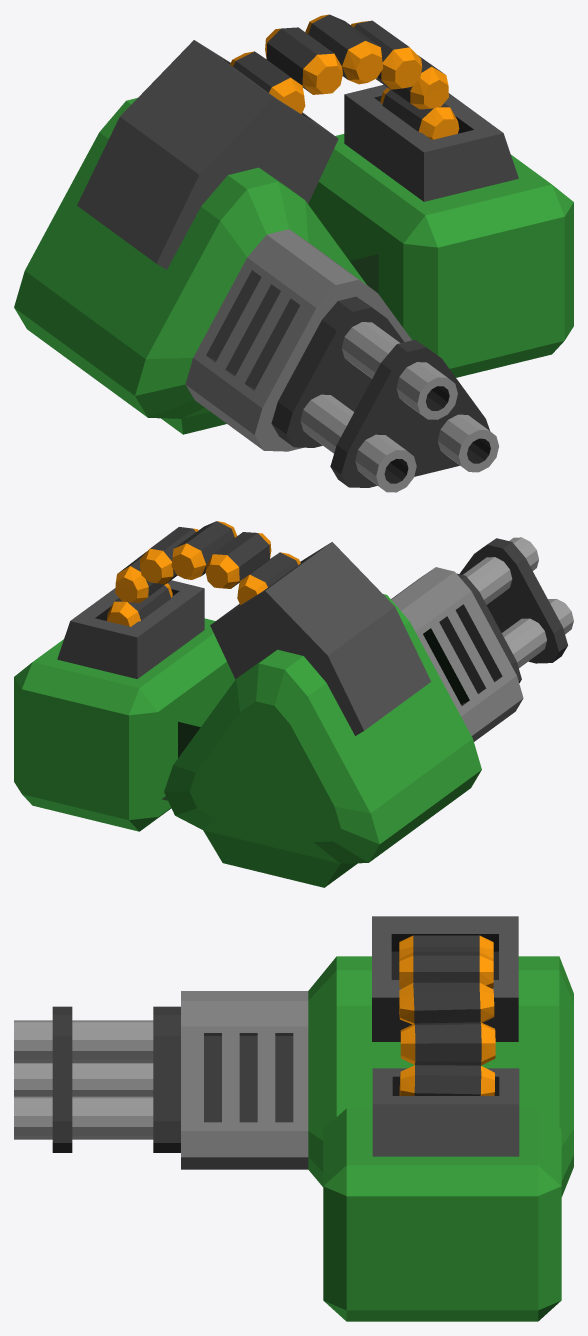
The model's file is gun_cannon.fbx.
The picture shows the model from 3 angles, top to bottom: view 1: azimuth 30°, elevation 25°; view 2: azimuth 150°, elevation 25°; view 3: azimuth 270°, elevation 25°; orthographic projection. The views are drawn at different scales.
Visible parts, largest first — view 1: Cube.043, Cube.048, Cube.047, Cylinder.025, Cube.050; view 2: Cube.043, Cube.048, Cube.047, Cylinder.025; view 3: Cube.043, Cube.048, Cylinder.025, Cube.047.
Part boxes in pixels (x1=…): Cube.043: x1=14, y1=98, x2=499, y2=492; Cube.048: x1=308, y1=84, x2=573, y2=377; Cube.047: x1=77, y1=40, x2=338, y2=269; Cylinder.025: x1=230, y1=14, x2=459, y2=139; Cube.050: x1=350, y1=254, x2=378, y2=293; Cube.043: x1=164, y1=537, x2=573, y2=887; Cube.048: x1=14, y1=580, x2=235, y2=831; Cube.047: x1=210, y1=542, x2=431, y2=735; Cylinder.025: x1=107, y1=521, x2=300, y2=626; Cube.043: x1=14, y1=956, x2=573, y2=1196; Cube.048: x1=323, y1=1068, x2=561, y2=1321; Cylinder.025: x1=399, y1=935, x2=495, y2=1095; Cube.047: x1=372, y1=916, x2=518, y2=1041.
Bounding box in the file's own units: 115 × 80.92 × 136.
